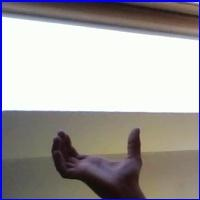space: (45, 123, 154, 197)
